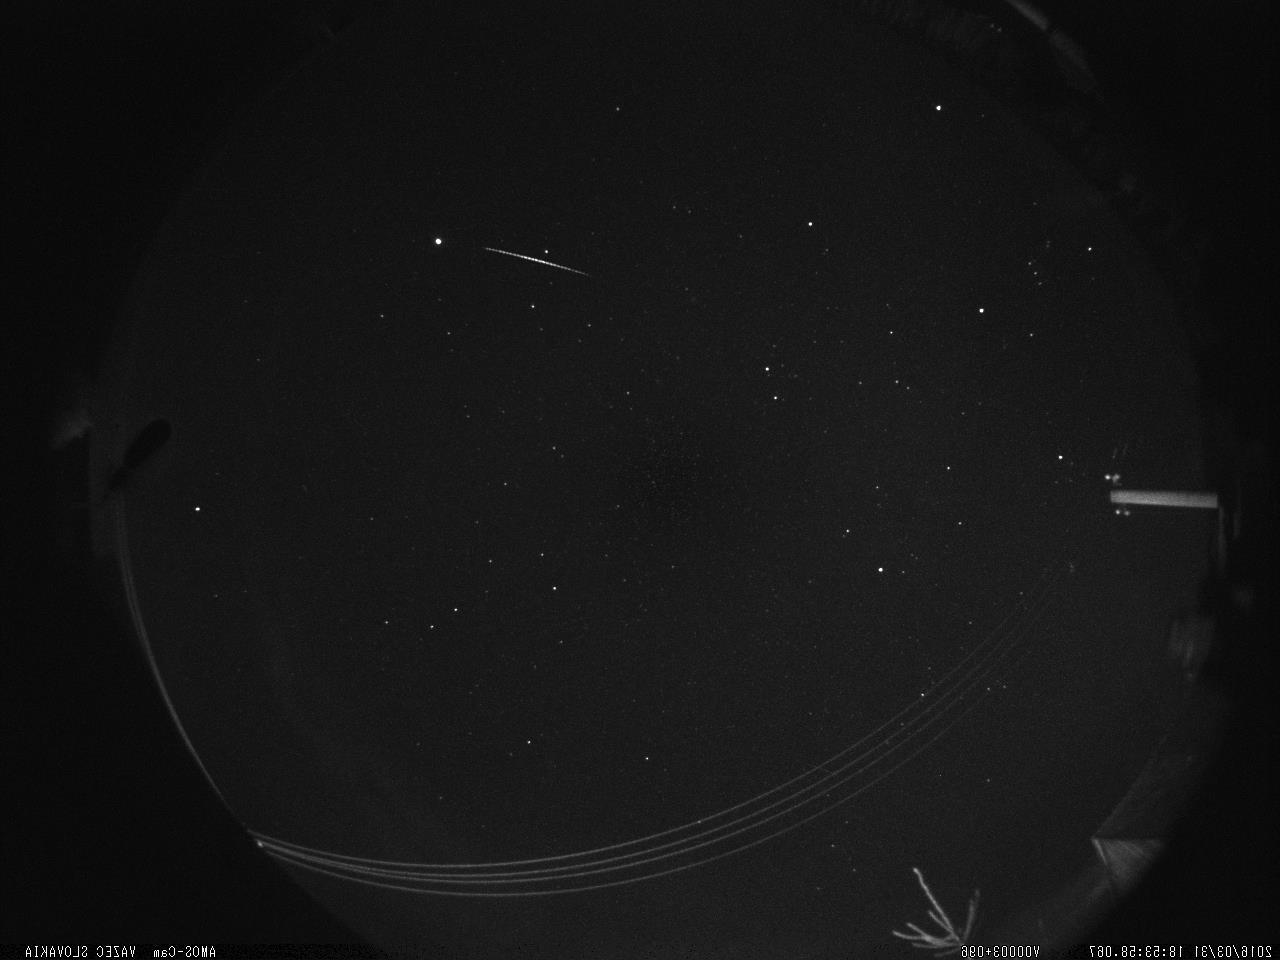meteor: (454, 248, 615, 280)
